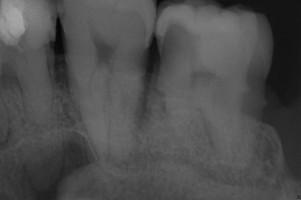Furcation Involvement: (16, 132, 97, 200), (0, 132, 12, 152)
